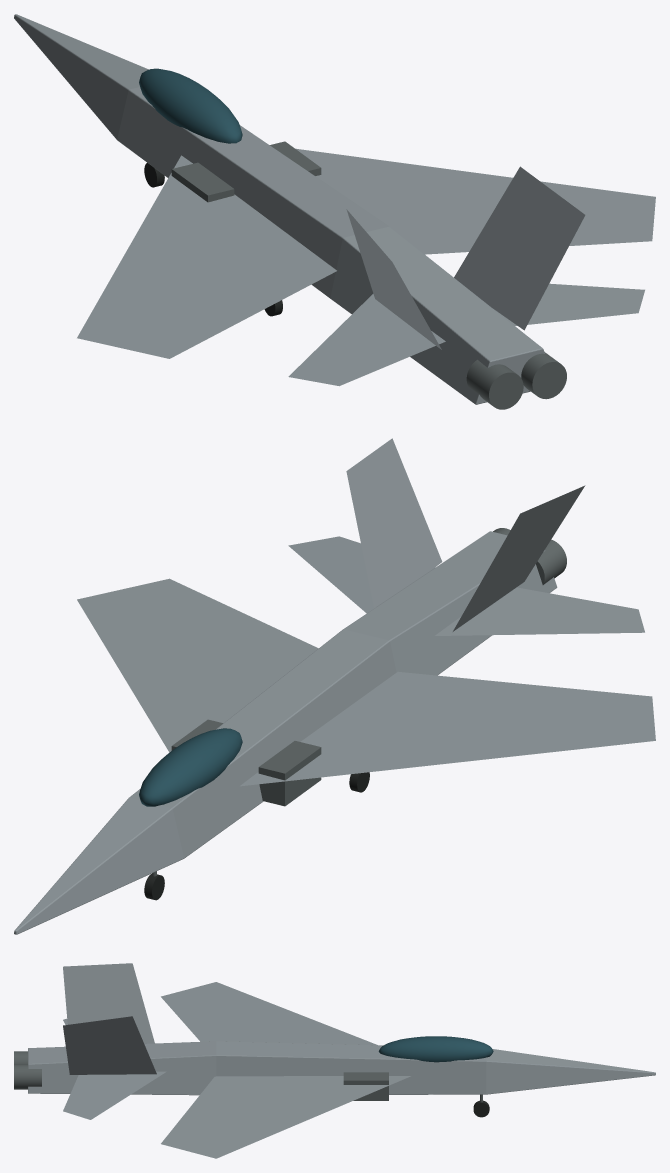
The picture shows the model from 3 angles, top to bottom: view 1: azimuth 30°, elevation 25°; view 2: azimuth 150°, elevation 25°; view 3: azimuth 270°, elevation 25°; orthographic projection. The views are drawn at different scales.
Visible parts, largest first — view 1: Hull_MVP gray paint, Hull_MVP exposed metal, Hull_MVP optical glass; view 2: Hull_MVP gray paint, Hull_MVP optical glass, Hull_MVP exposed metal, RunningGear_MVP rubber; view 3: Hull_MVP gray paint, Hull_MVP optical glass, Hull_MVP exposed metal.
Part boxes in pixels (x1=…): Hull_MVP gray paint: x1=14, y1=14, x2=655, y2=404; Hull_MVP exposed metal: x1=171, y1=141, x2=566, y2=409; Hull_MVP optical glass: x1=139, y1=68, x2=242, y2=143; Hull_MVP gray paint: x1=14, y1=438, x2=655, y2=934; Hull_MVP optical glass: x1=139, y1=728, x2=242, y2=806; Hull_MVP exposed metal: x1=171, y1=528, x2=566, y2=806; RunningGear_MVP rubber: x1=144, y1=772, x2=369, y2=900; Hull_MVP gray paint: x1=28, y1=963, x2=655, y2=1158; Hull_MVP optical glass: x1=378, y1=1036, x2=493, y2=1062; Hull_MVP exposed metal: x1=14, y1=1051, x2=388, y2=1100.
Size of the model in its own units: 12 by 4 by 18.4.
